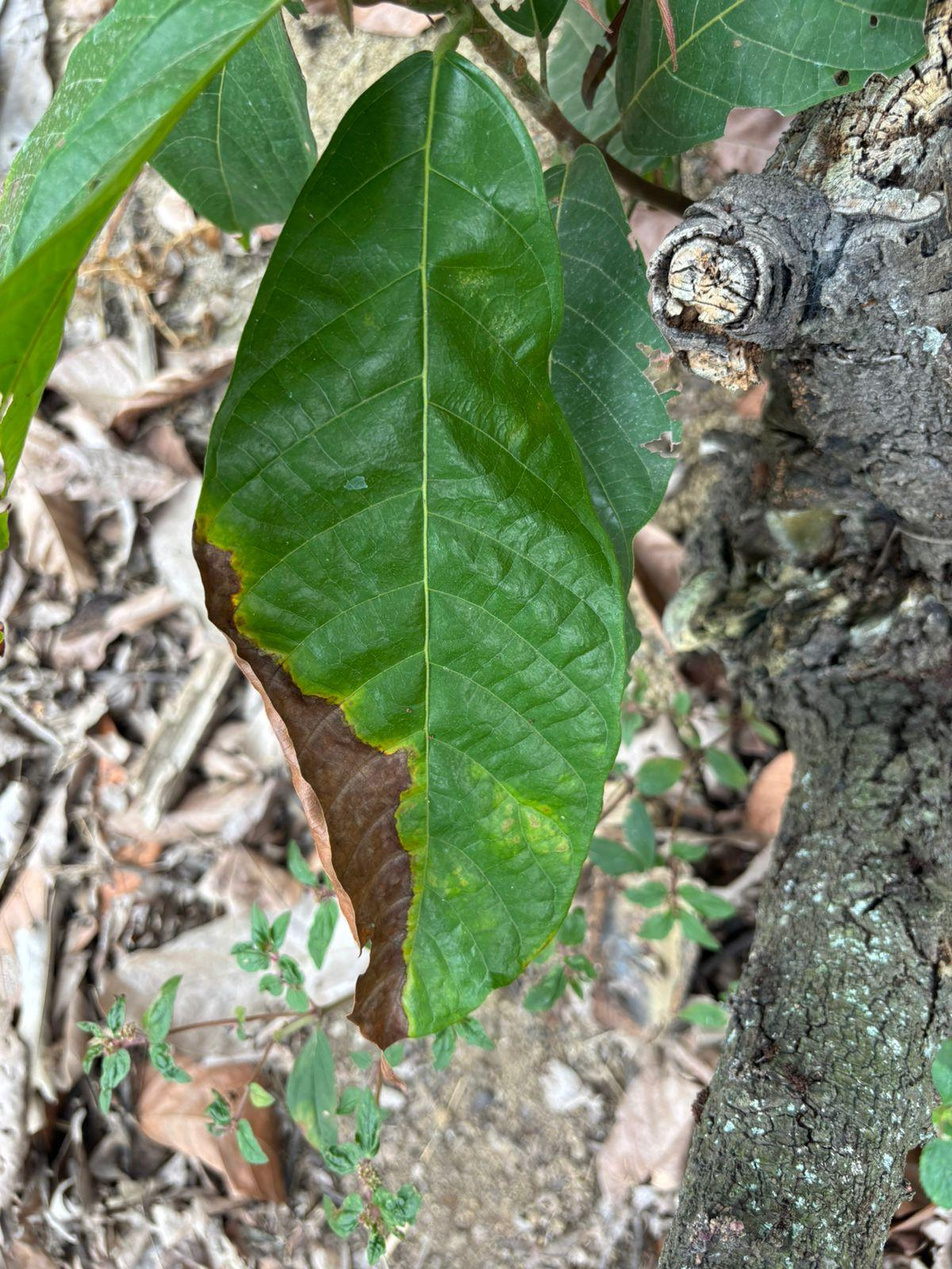deficiencia_potasio: (195, 44, 626, 1046)
